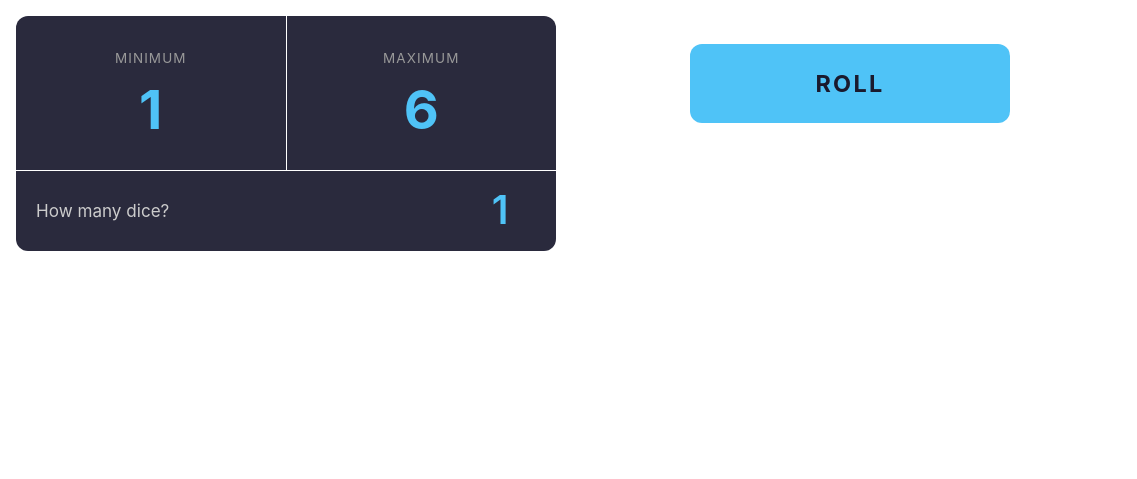
Test: DiceRoll history › records a single-die roll with its config
Click the button "ROLL" at (850, 84), box [690,44,1010,124]
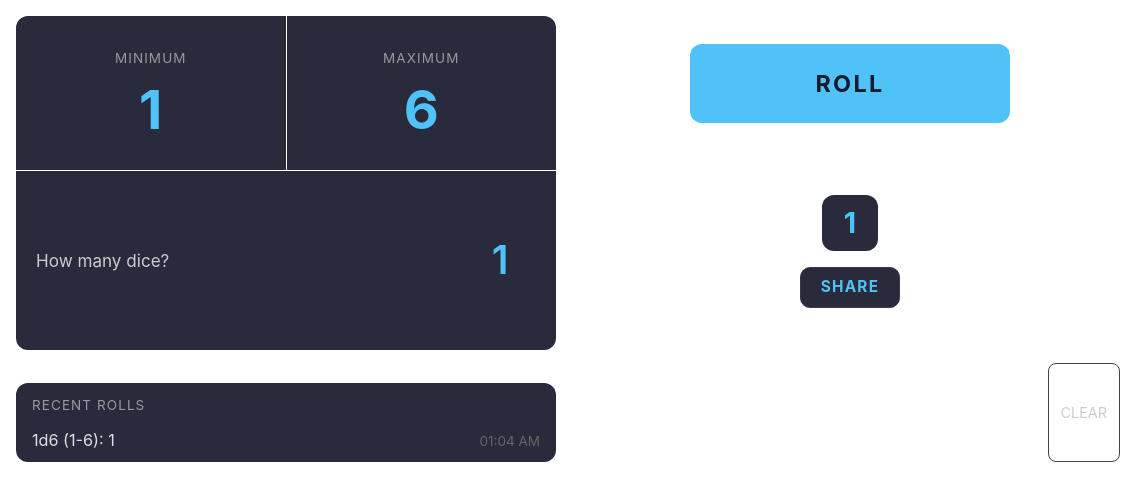
Expected: the text "Recent rolls" is shown, [32,397,145,413]
Expected: the text "1d6 (1-6): 1" is shown, [32,428,115,454]
